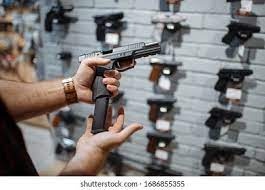gun: (80, 37, 163, 106), (198, 141, 249, 169), (151, 13, 194, 44), (222, 19, 264, 49), (90, 10, 127, 44), (215, 64, 256, 93), (43, 4, 82, 33), (149, 55, 183, 84), (207, 105, 245, 130), (144, 97, 179, 119), (146, 130, 174, 154)
